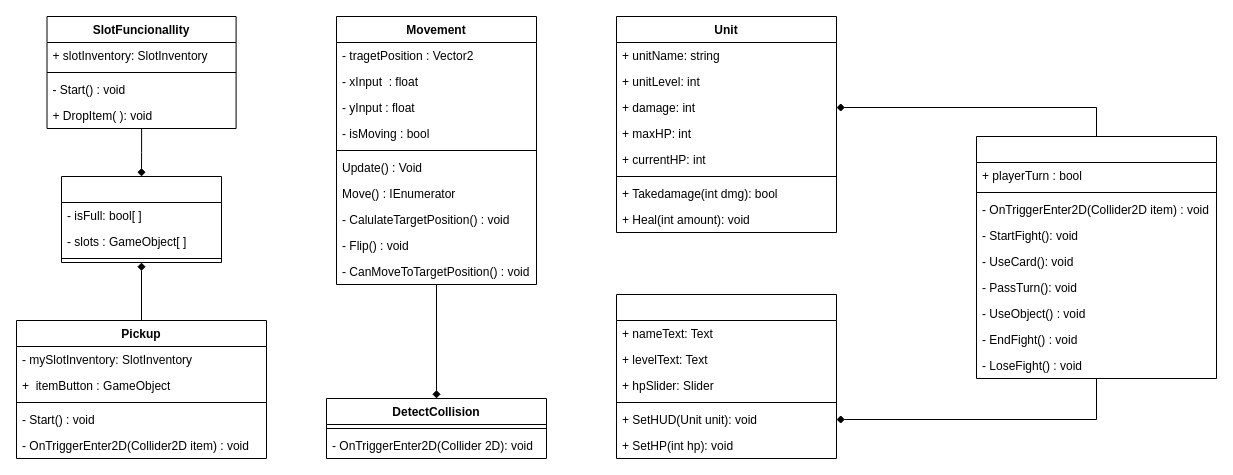
Image size: 1233x475. Some labels were removed from this diagram. Each missing label, with the box of its shape:
BattleHud: (616, 294, 836, 458)
BattleSystem: (976, 136, 1216, 378)
SlotInventory: (60, 176, 222, 262)
